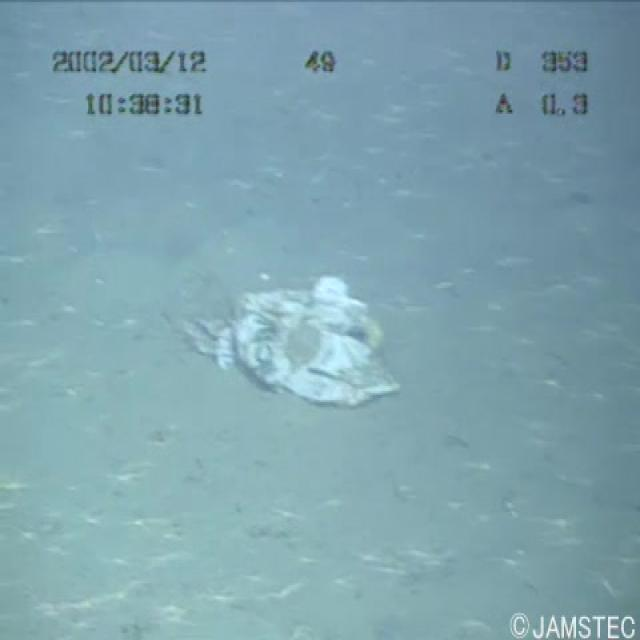plastic: (163, 249, 416, 412)
